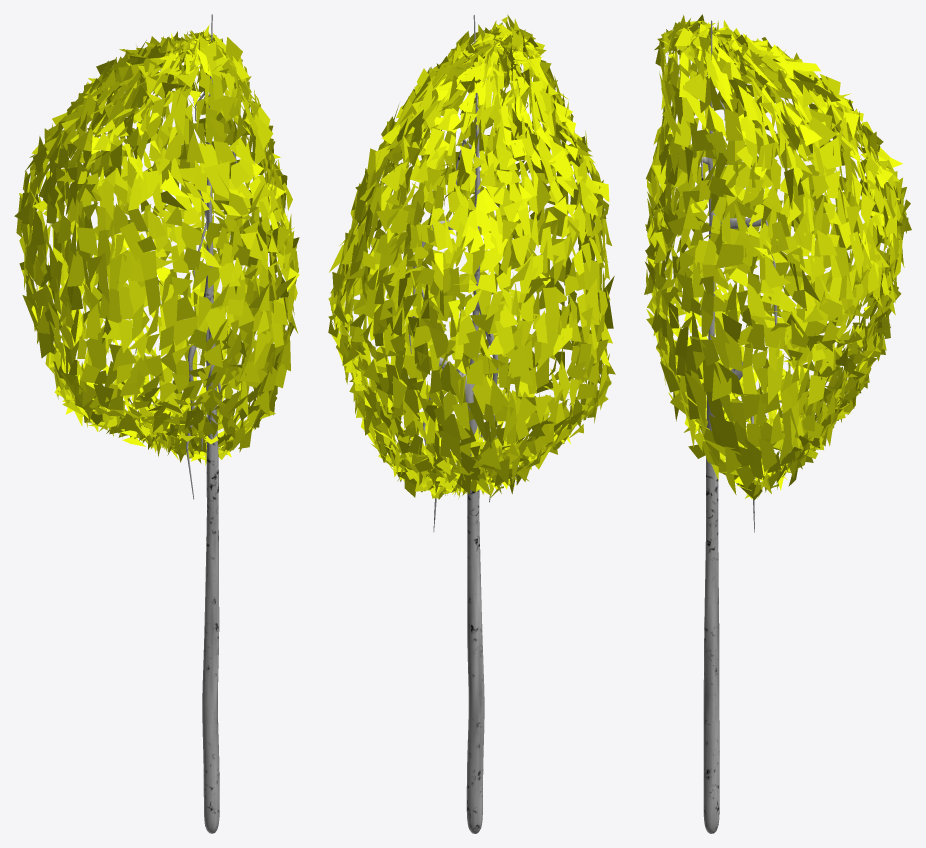
The model's file is Leaves62.002.fbx.
3 renders of one model, left to right at view 1: azimuth 30°, elevation 25°; view 2: azimuth 150°, elevation 25°; view 3: azimuth 270°, elevation 25°, orthographic.
Visible parts, largest first — view 1: Leaves62.002; view 2: Leaves62.002; view 3: Leaves62.002.
Part boxes in pixels (left/top/right/bottom): Leaves62.002: left=14, top=14, right=299, bottom=833; Leaves62.002: left=328, top=14, right=615, bottom=833; Leaves62.002: left=644, top=14, right=911, bottom=833.
Bounding box in the file's own units: 795 × 2574 × 768.
2 materials, 1 textured.
